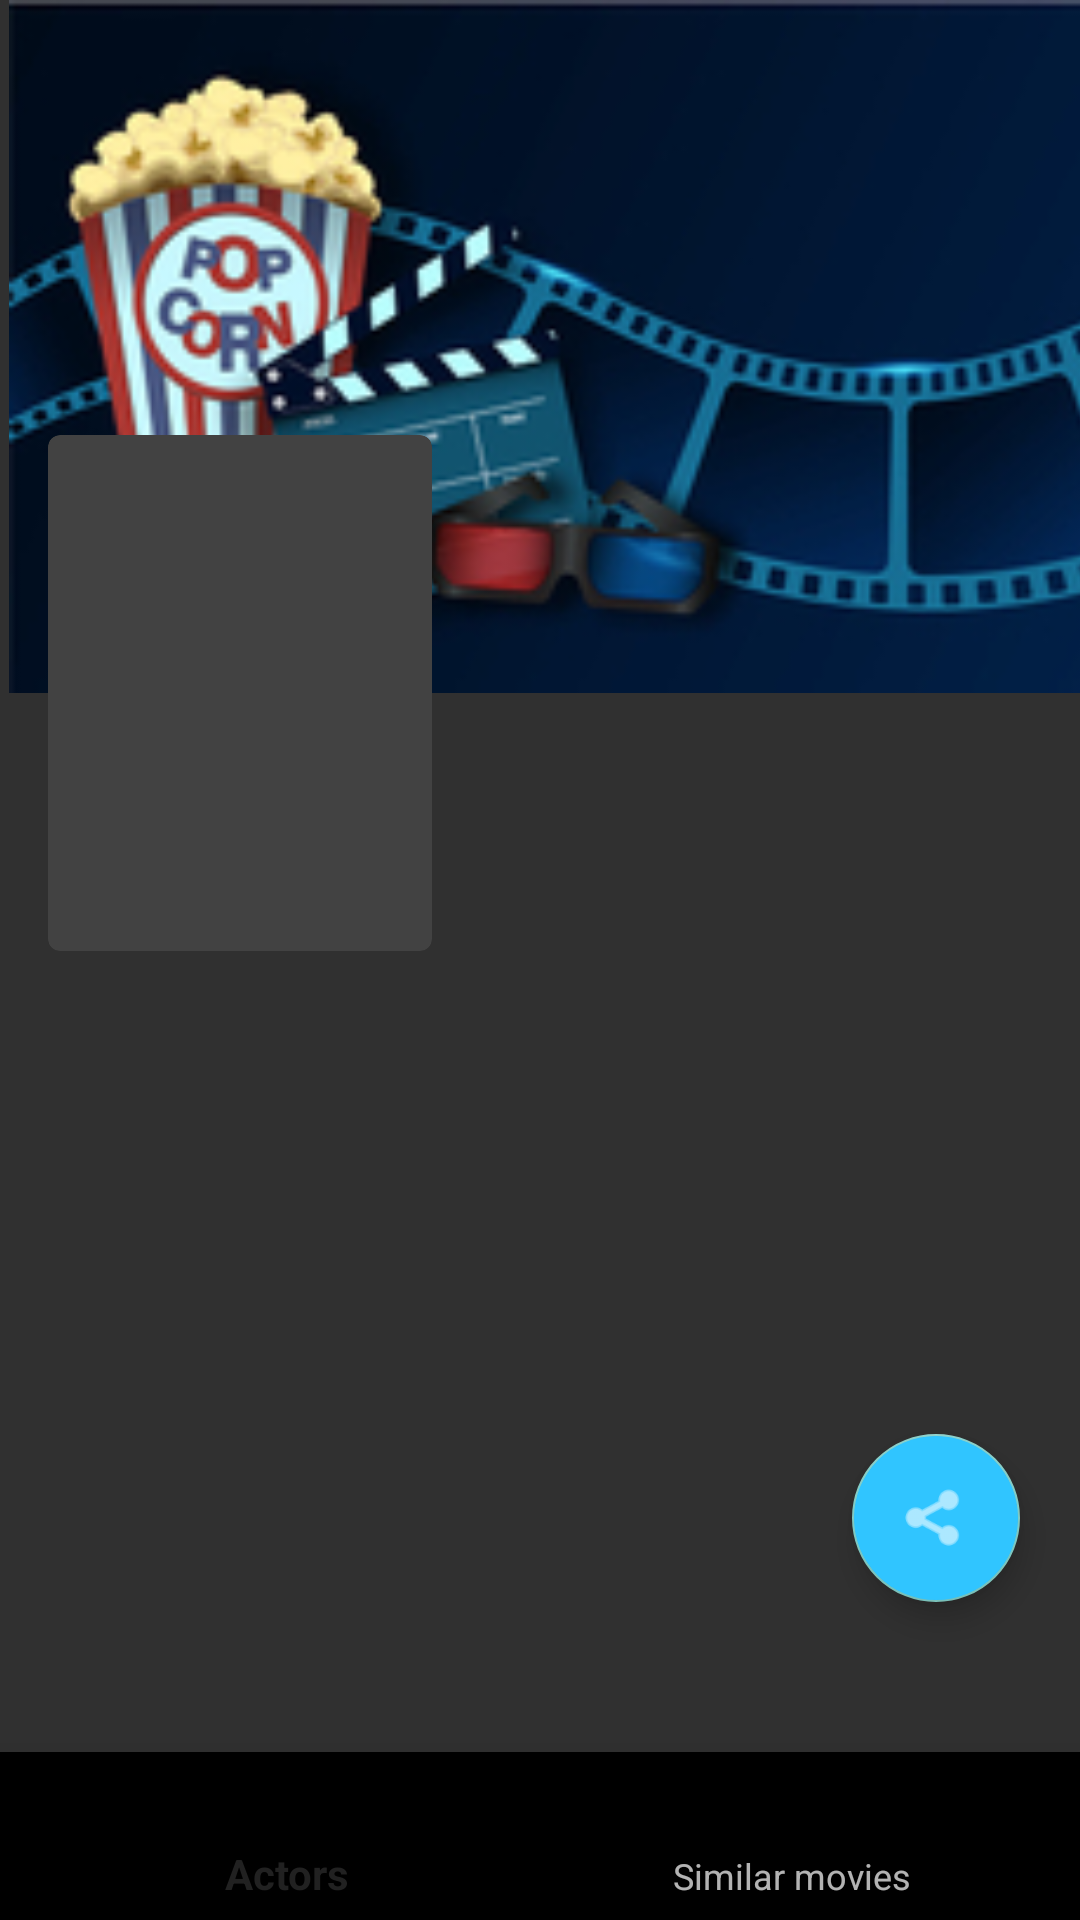

Point at icon controls on the screen. Image size 1080 × 1920, points as (x,y).
share: (936,1518)
